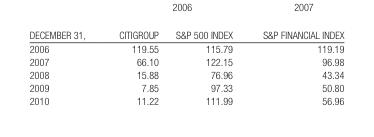table: (28, 28, 343, 105)
table column: (247, 28, 343, 105), (166, 28, 247, 105), (28, 28, 101, 105), (101, 28, 166, 105)
table column header: (28, 28, 343, 41)
table row: (28, 41, 343, 55), (28, 28, 343, 41), (28, 67, 343, 80), (28, 80, 343, 93), (28, 55, 343, 67), (28, 93, 343, 105)
